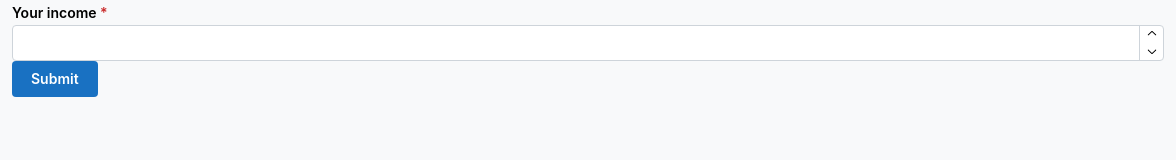
Test: ControlledCurrencyInput › explains that zero is the value to use when the user leaves it blank
Step 1. Click the field labelled "Your income *" → click(588, 43), box [12,25,1164,61]
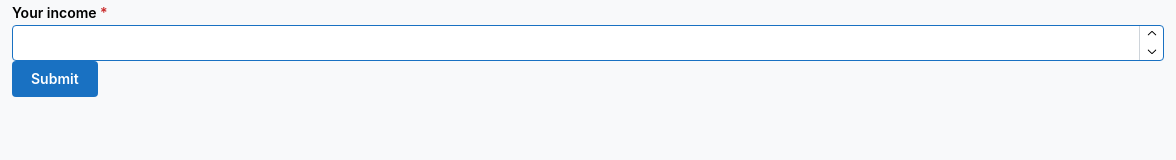
Step 2. Press Tab
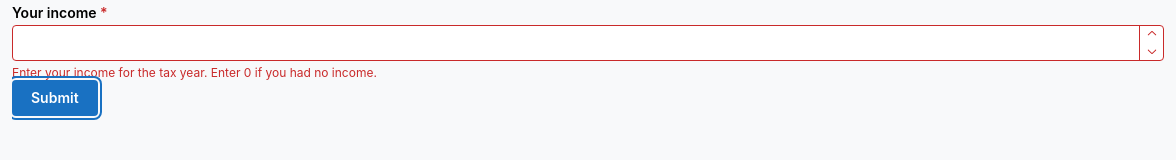
Check: the text "Enter 0 if you had no income" is shown, box [12,65,377,80]
